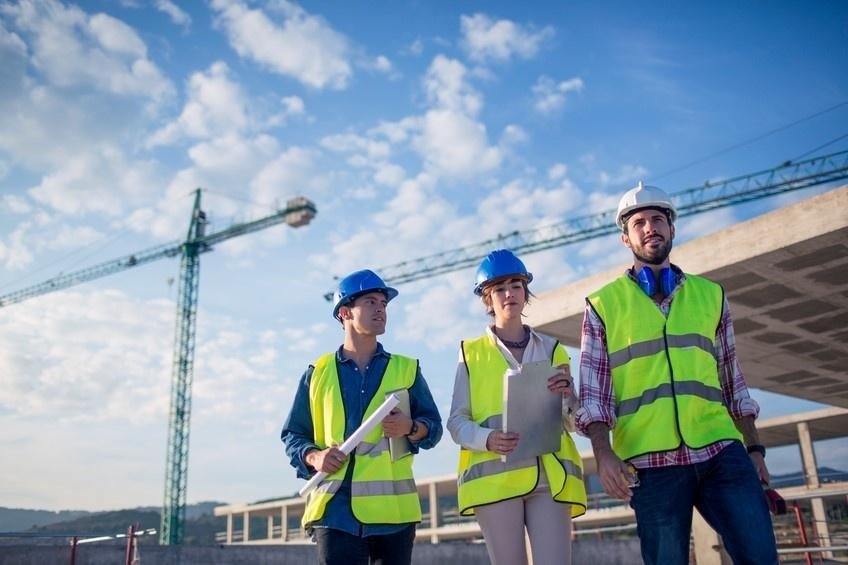helmet: (326, 269, 400, 334), (612, 177, 680, 243), (466, 247, 540, 302)
person: (570, 177, 771, 563), (292, 266, 443, 560), (453, 249, 579, 557)
vest: (586, 271, 757, 476), (449, 327, 583, 521), (299, 348, 429, 530)
